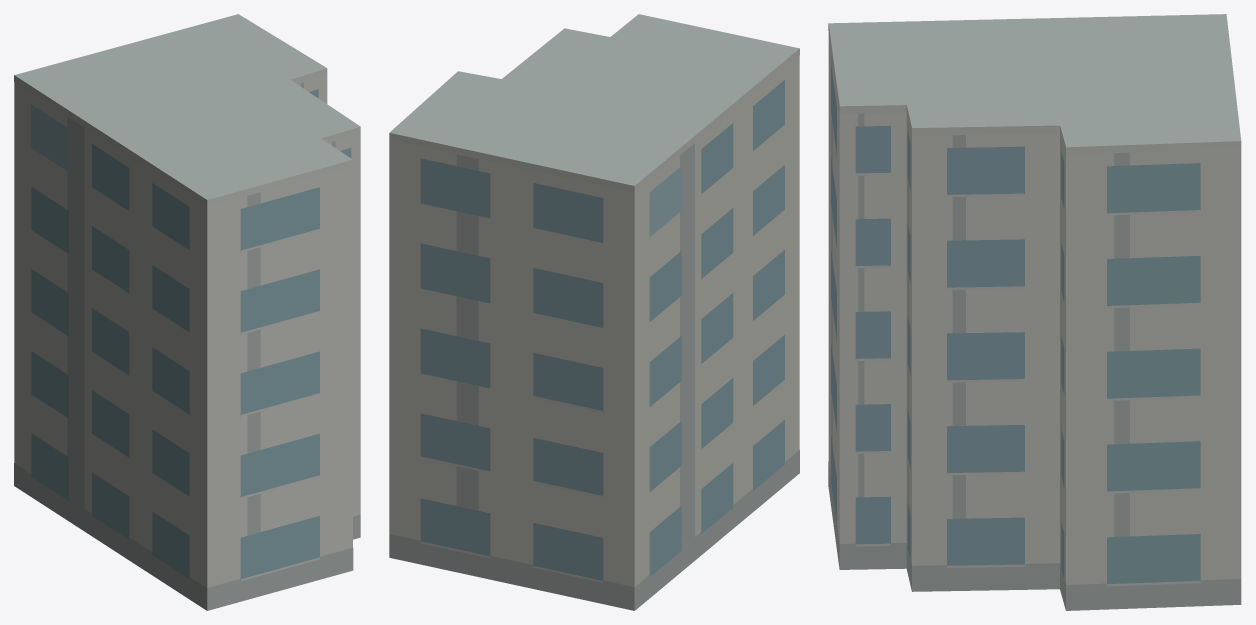
Rendered from survey-upis-32706330.glb.
3 views of the same model, side by side, from view 1: azimuth 30°, elevation 25°; view 2: azimuth 150°, elevation 25°; view 3: azimuth 270°, elevation 25° (orthographic). The views are drawn at different scales.
Visible parts, largest first — view 1: survey-upis-32706330.tmp; view 2: survey-upis-32706330.tmp; view 3: survey-upis-32706330.tmp.
Part boxes in pixels (x1,y1,x2,y2): survey-upis-32706330.tmp: (14,14,360,610); survey-upis-32706330.tmp: (389,14,799,610); survey-upis-32706330.tmp: (828,14,1241,610).
Bounding box in the file's own units: 9.07 × 14.7 × 11.87.
